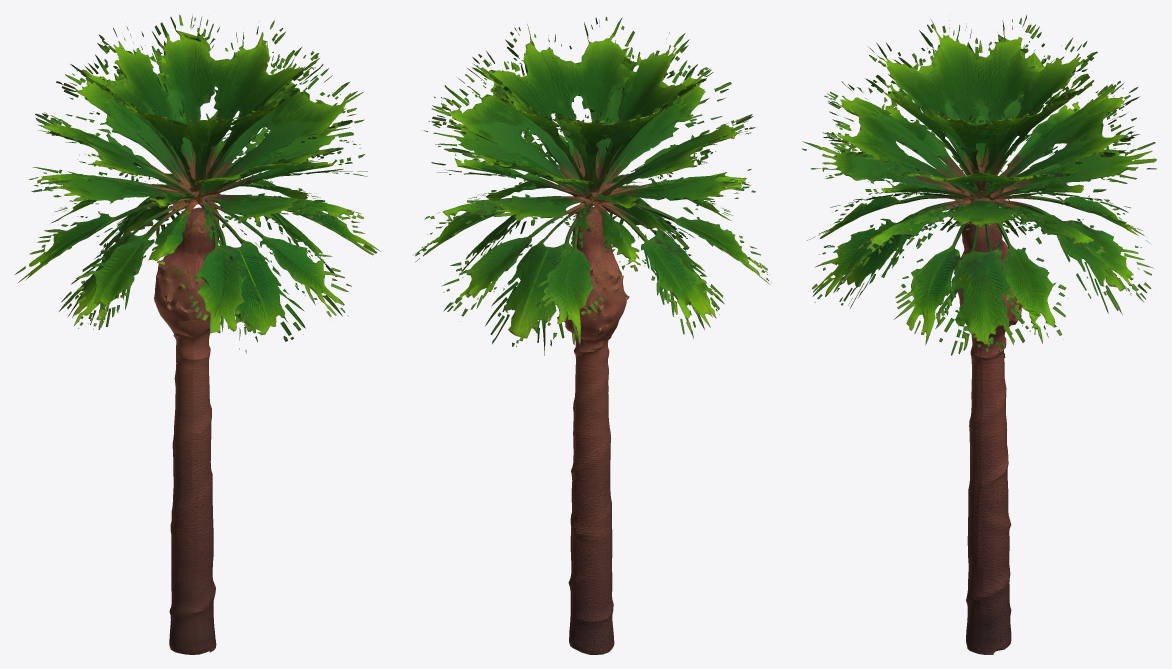
The model's file is raw_meshy_model.glb.
3 views of the same model, side by side, from view 1: azimuth 30°, elevation 25°; view 2: azimuth 150°, elevation 25°; view 3: azimuth 270°, elevation 25° (orthographic).
Bounding box in the file's own units: 1.06 × 1.88 × 1.04.
Materials: 1 (1 with a texture image).
